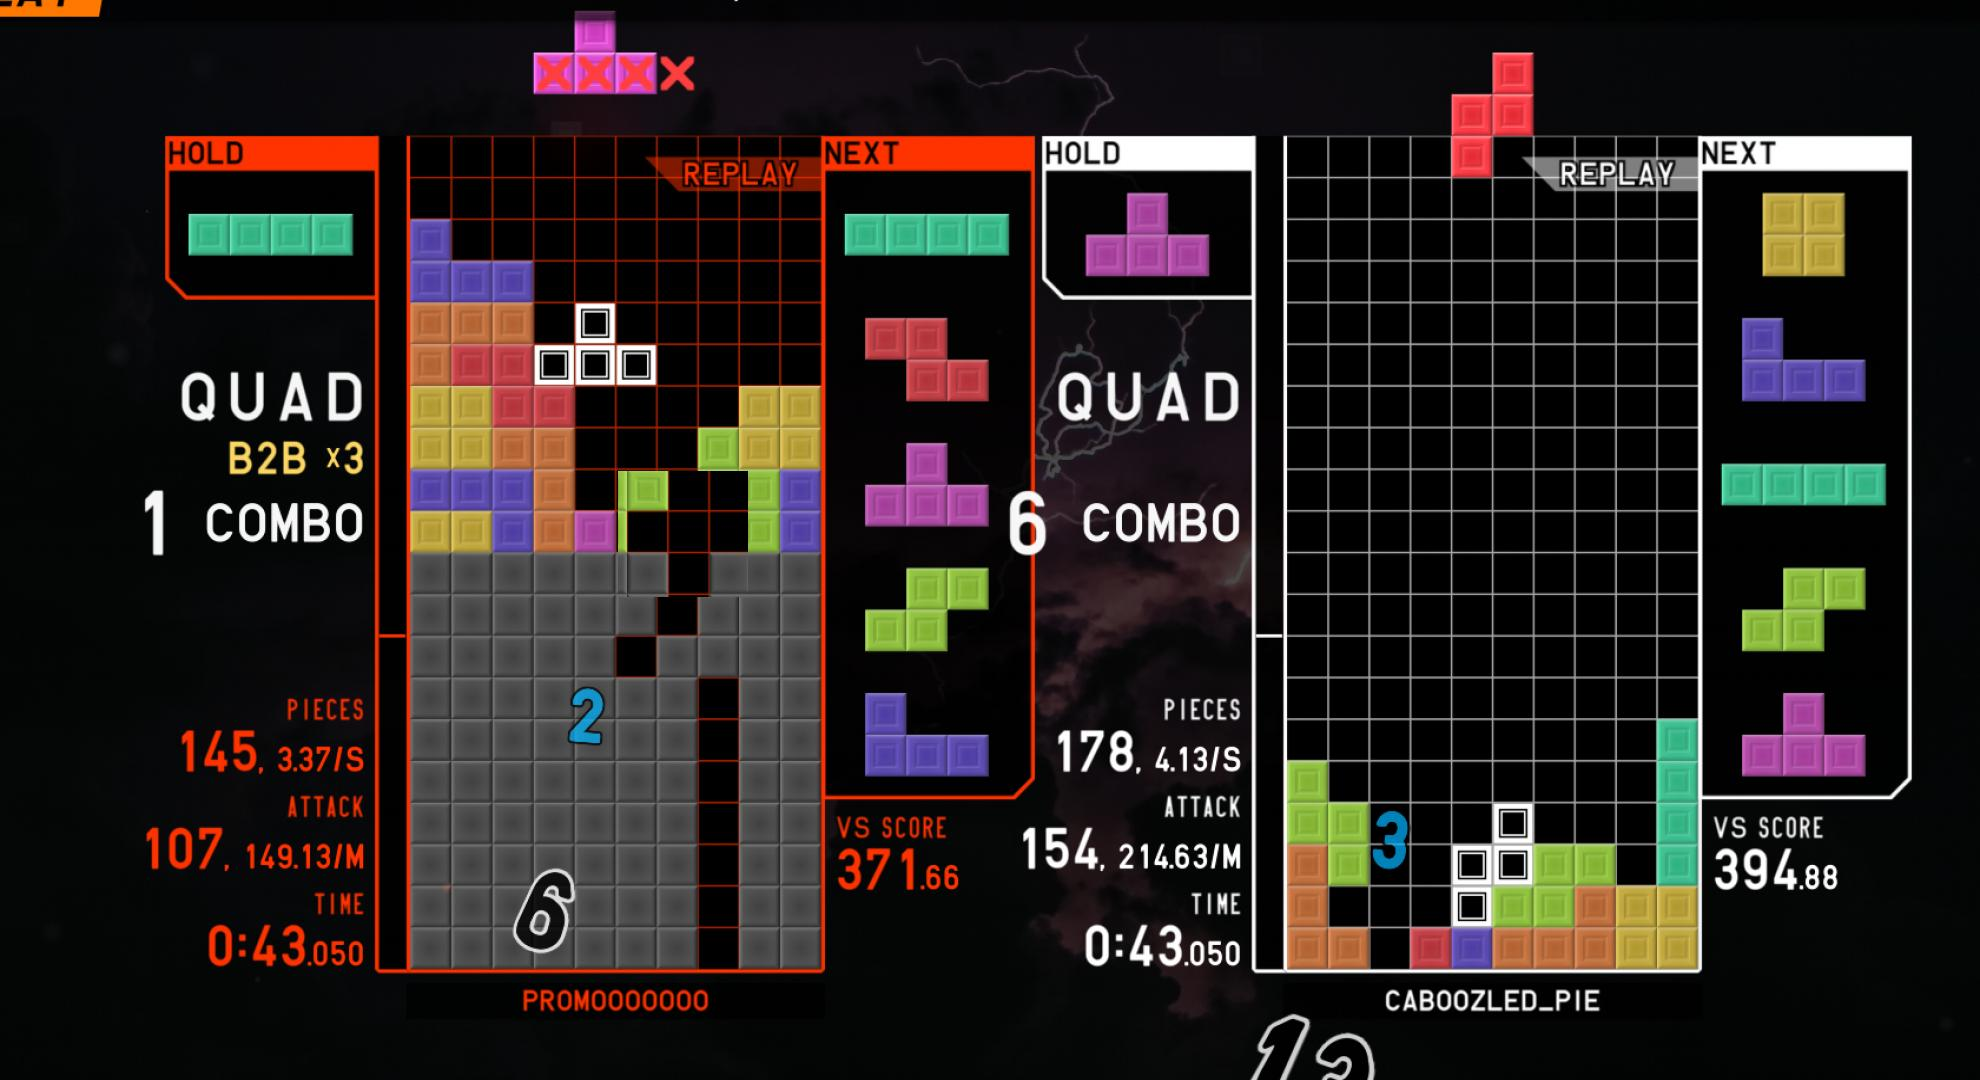tspin: (618, 471, 747, 597)
